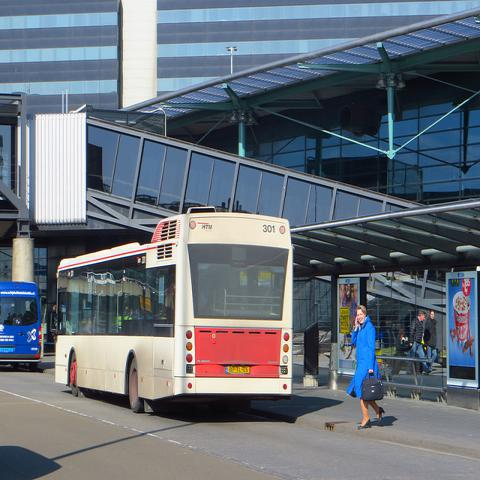bus: (54, 204, 296, 415), (0, 282, 44, 373)
